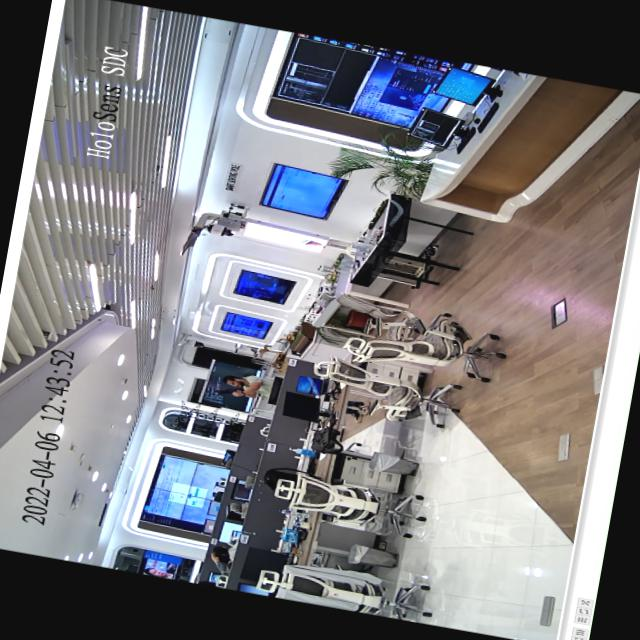long weapon: (212, 382, 250, 400)
